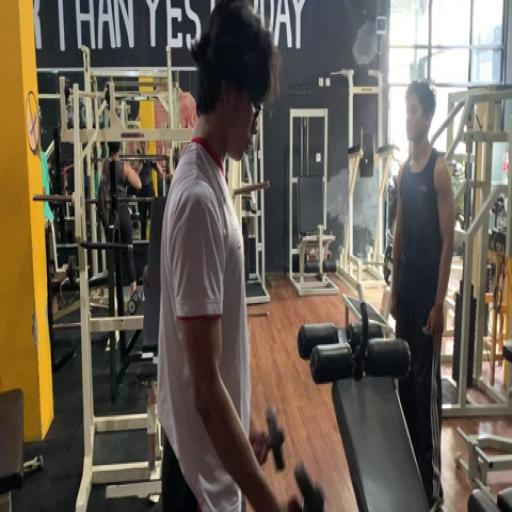exercise: (153, 0, 302, 511), (386, 76, 459, 510)
